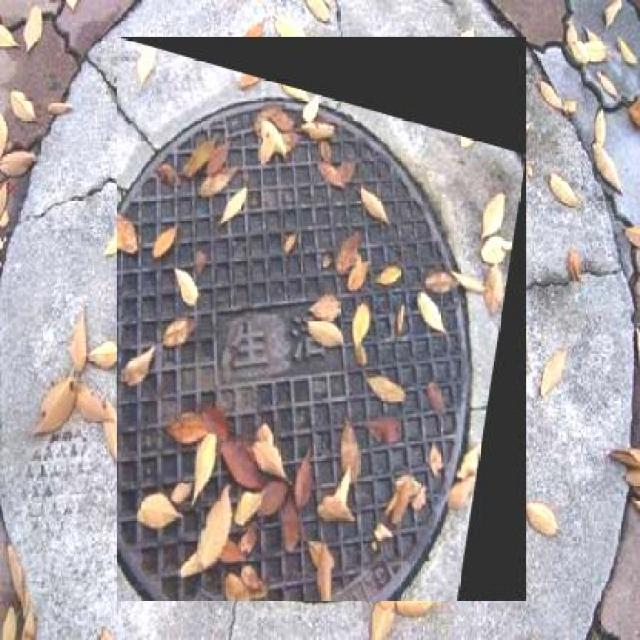Manhole: (117, 37, 526, 600)
